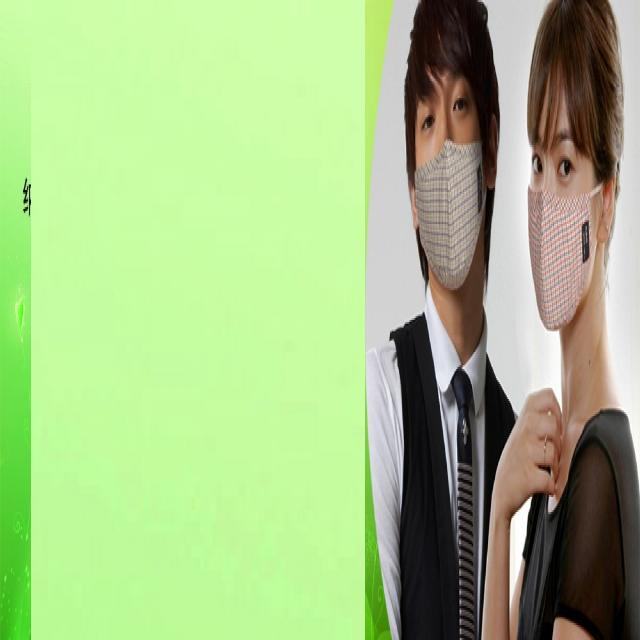mask: (529, 75, 594, 332), (416, 68, 485, 290)
